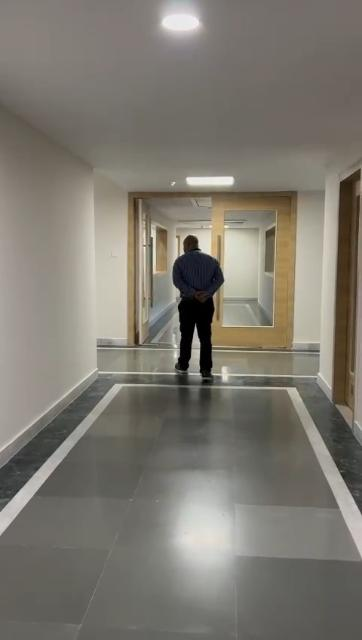floor: (1, 344, 362, 640)
moving-obj: (168, 215, 238, 389)
wall: (0, 101, 125, 448)
